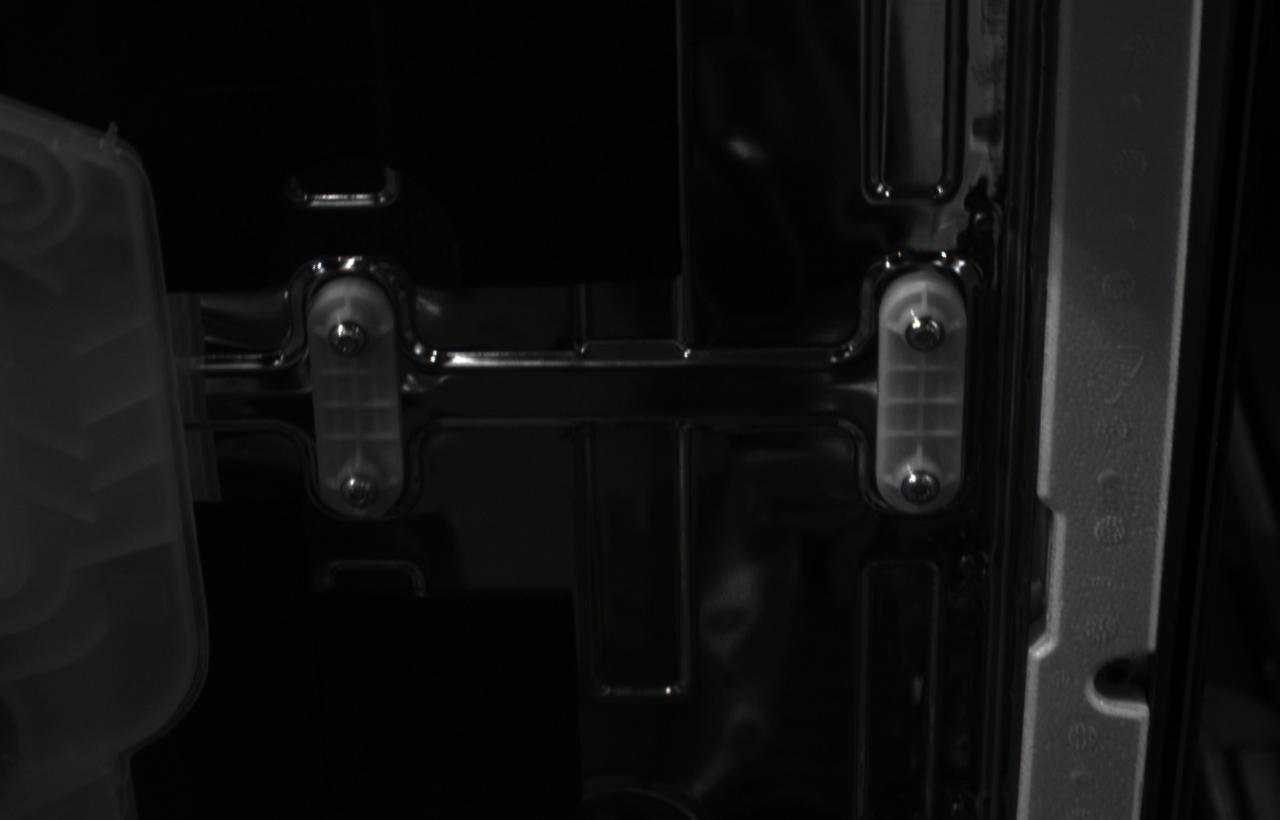vida-ok: (906, 316, 946, 353), (327, 320, 365, 357), (901, 470, 940, 505), (340, 474, 377, 508)
